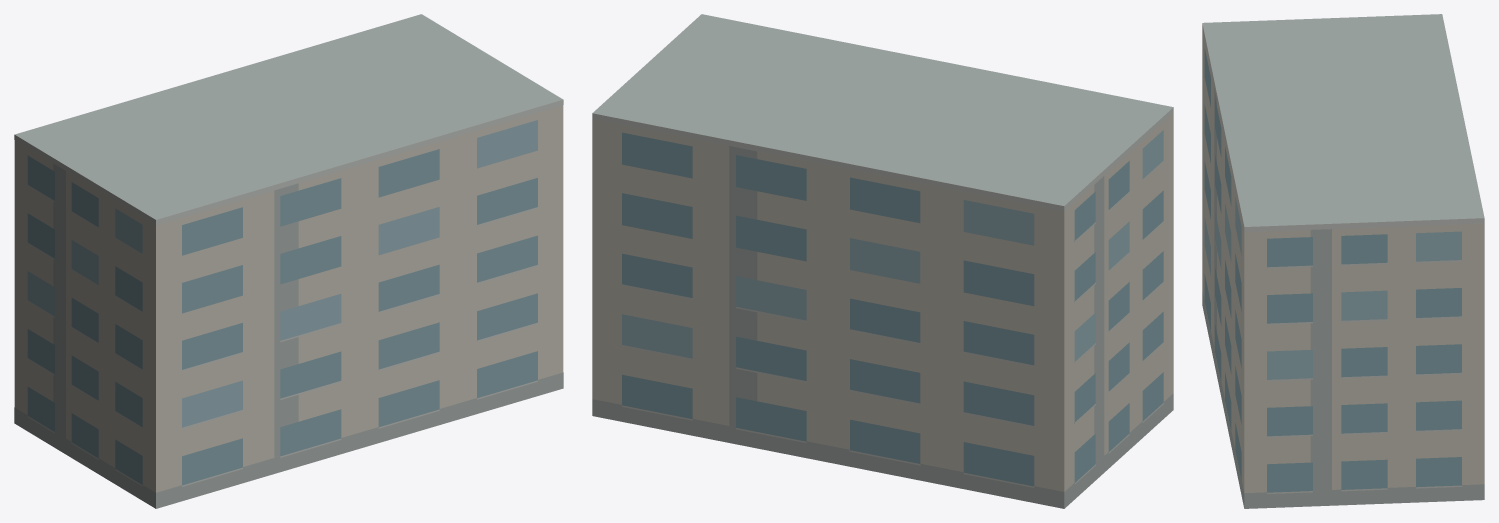
Rendered from residential-d8548174-6772-45b2-bb50-b89ca761009a.glb.
3 views of the same model, side by side, from view 1: azimuth 30°, elevation 25°; view 2: azimuth 150°, elevation 25°; view 3: azimuth 270°, elevation 25° (orthographic). The views are drawn at different scales.
Visible parts, largest first — view 1: residential-d8548174-6772-45b2-bb50-b89ca761009a.tmp; view 2: residential-d8548174-6772-45b2-bb50-b89ca761009a.tmp; view 3: residential-d8548174-6772-45b2-bb50-b89ca761009a.tmp.
Boxes of the visible parts, x1,y1,x2,y2 form: residential-d8548174-6772-45b2-bb50-b89ca761009a.tmp: (14, 14, 563, 508); residential-d8548174-6772-45b2-bb50-b89ca761009a.tmp: (592, 14, 1173, 508); residential-d8548174-6772-45b2-bb50-b89ca761009a.tmp: (1202, 14, 1484, 508).
Size of the model in its own units: 21.08 by 13 by 11.81.
